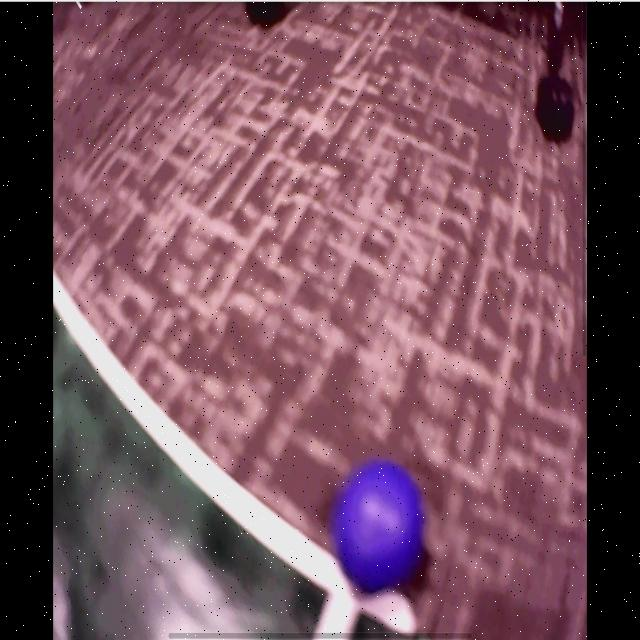ball: (333, 463, 423, 590)
